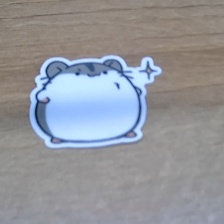mouse: (28, 52, 167, 152)
